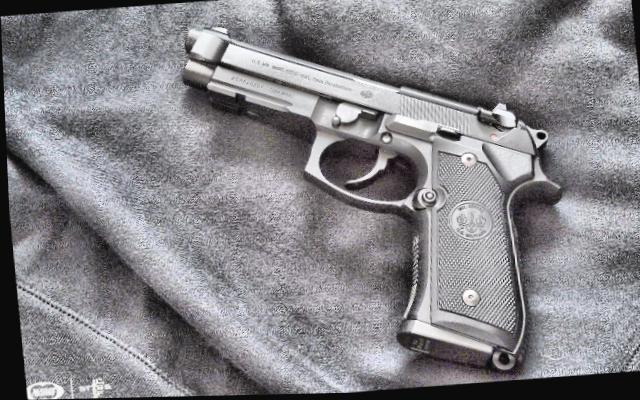pistol: (173, 0, 574, 396)
